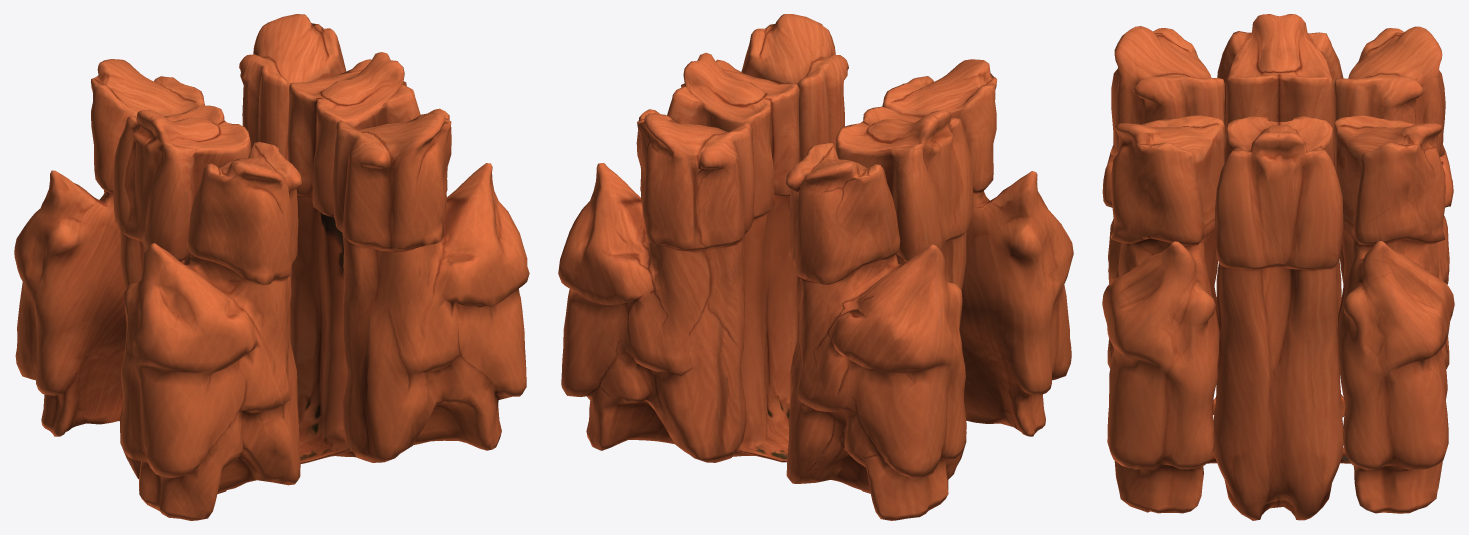
Rendered from uga-karst.glb.
The picture shows the model from 3 angles, left to right: view 1: azimuth 30°, elevation 25°; view 2: azimuth 150°, elevation 25°; view 3: azimuth 270°, elevation 25°; orthographic projection. The views are drawn at different scales.
Visible parts, largest first — view 1: uga-karst; view 2: uga-karst; view 3: uga-karst.
Boxes of the visible parts, x1,y1,x2,y2 form: uga-karst: [14, 14, 529, 520]; uga-karst: [558, 14, 1073, 520]; uga-karst: [1102, 14, 1454, 520].
Size of the model in its own units: 1 by 0.951 by 0.7736.
Materials: 1 (1 with a texture image).
